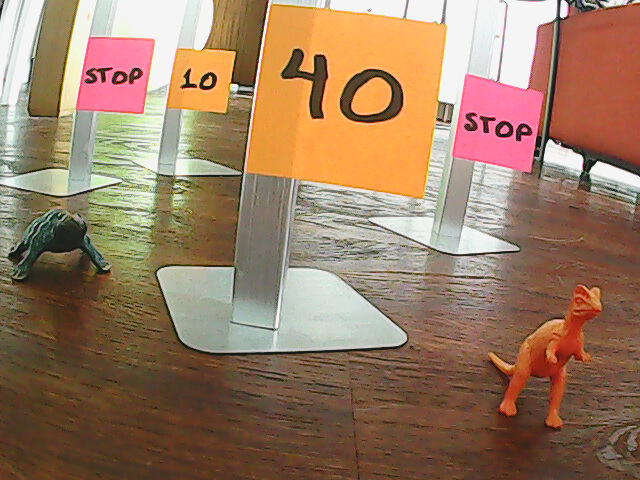10: (174, 56, 226, 106)
40: (253, 28, 430, 173)
dinosaur: (477, 278, 611, 444)
stop: (462, 88, 533, 163), (83, 40, 148, 108)
turtle: (6, 203, 126, 288)
